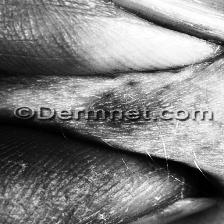Benign Marking or Mole: (97, 97, 168, 127)
